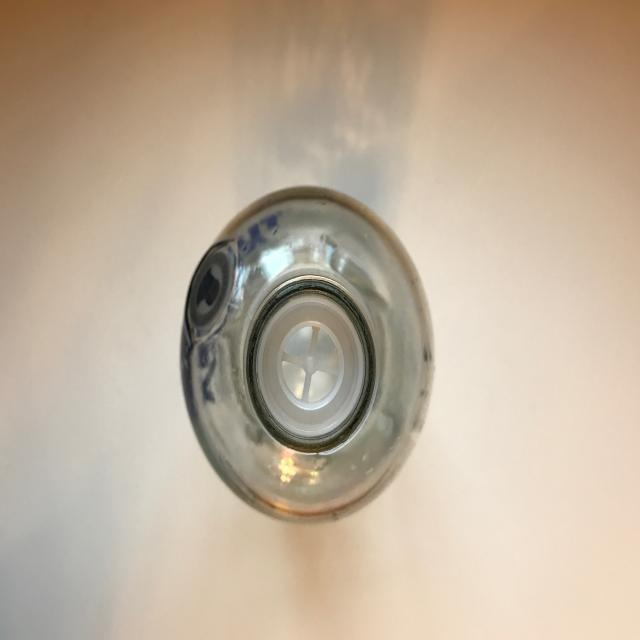glass: (179, 183, 436, 524)
